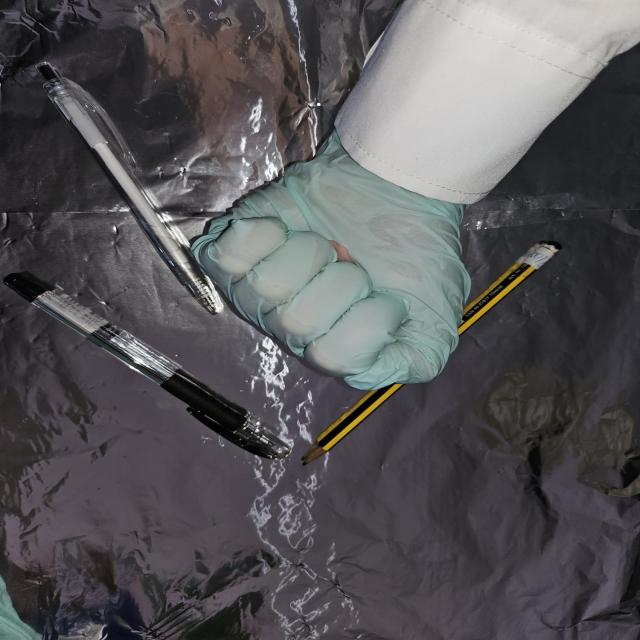gloves_damaged: (193, 138, 473, 392)
